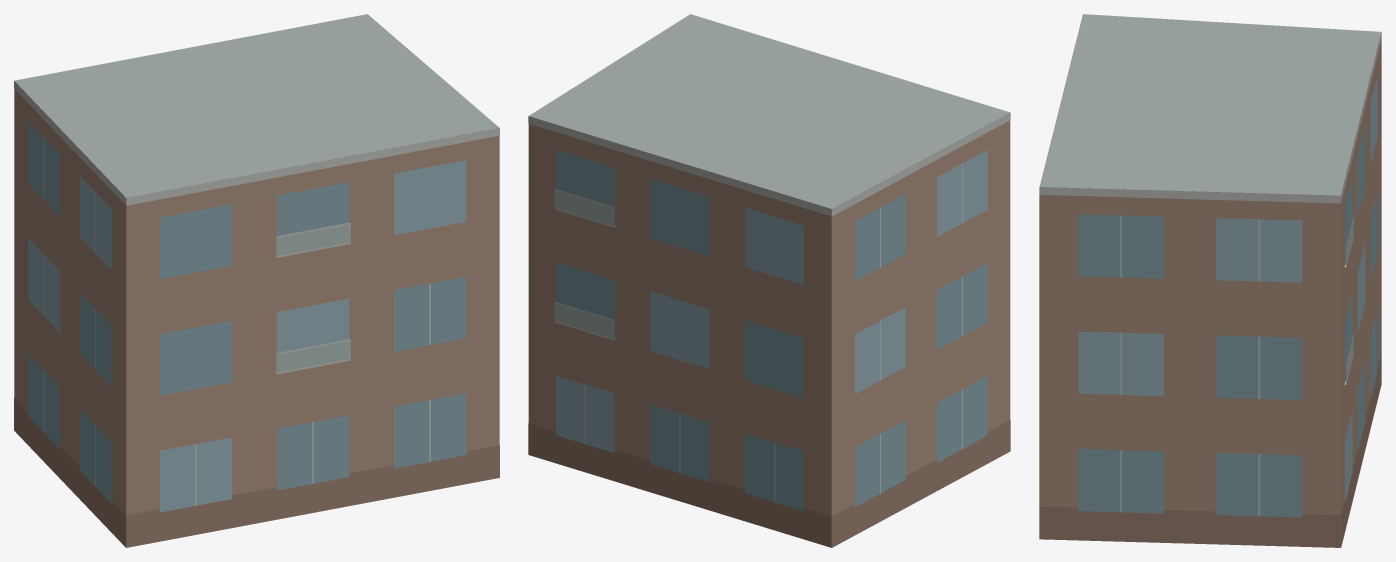
Rendered from survey-upis-32607268.glb.
3 renders of one model, left to right at view 1: azimuth 30°, elevation 25°; view 2: azimuth 150°, elevation 25°; view 3: azimuth 270°, elevation 25°, orthographic. The views are drawn at different scales.
Parts seen in each view (by area): view 1: survey-upis-32607268.tmp; view 2: survey-upis-32607268.tmp; view 3: survey-upis-32607268.tmp.
Boxes of the visible parts, x1,y1,x2,y2 form: survey-upis-32607268.tmp: [14, 14, 499, 547]; survey-upis-32607268.tmp: [528, 14, 1010, 547]; survey-upis-32607268.tmp: [1039, 14, 1381, 547].
Size of the model in its own units: 12.06 by 10.9 by 9.6.
